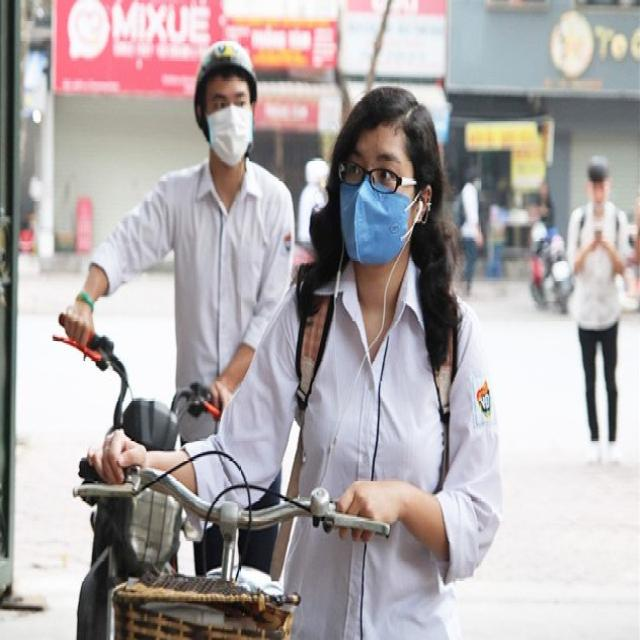Nonhelmet: (331, 71, 438, 284)
